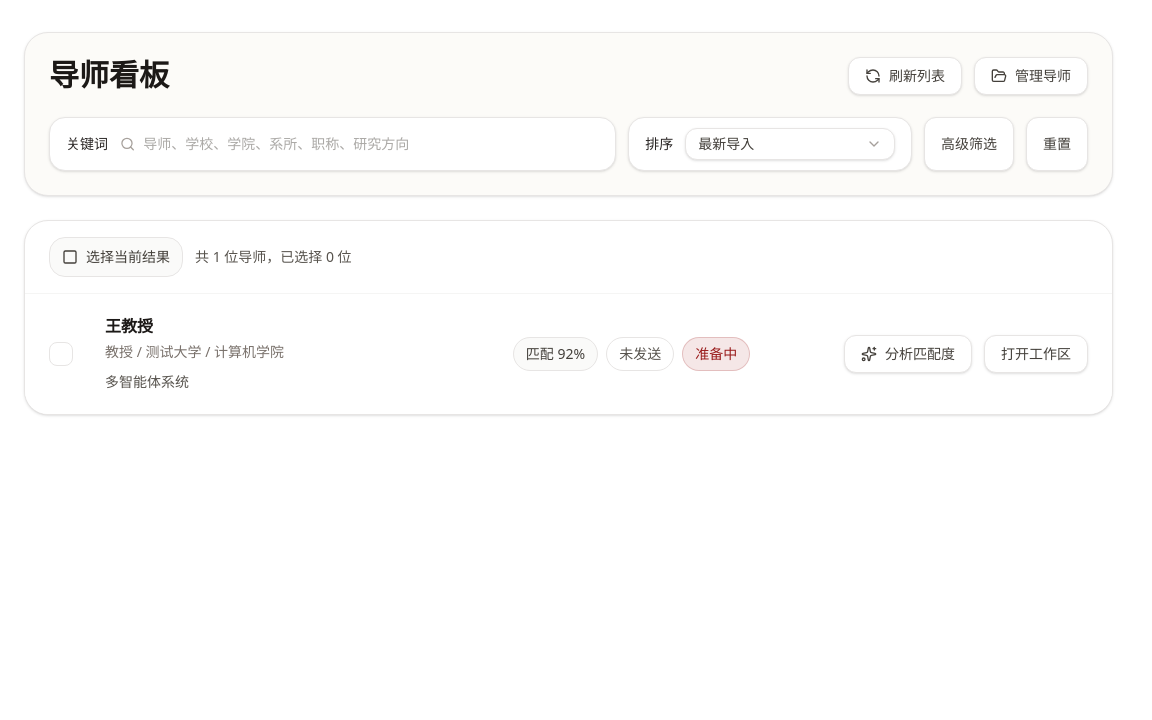
Scenario: HomePage onboarding › shows relationship status labels and filter controls on the dashboard
What coordinates should you click on to do the following:
click the button "高级筛选"
I would click on:
 (969, 144)
Its box is x1=924 y1=117 x2=1014 y2=171.
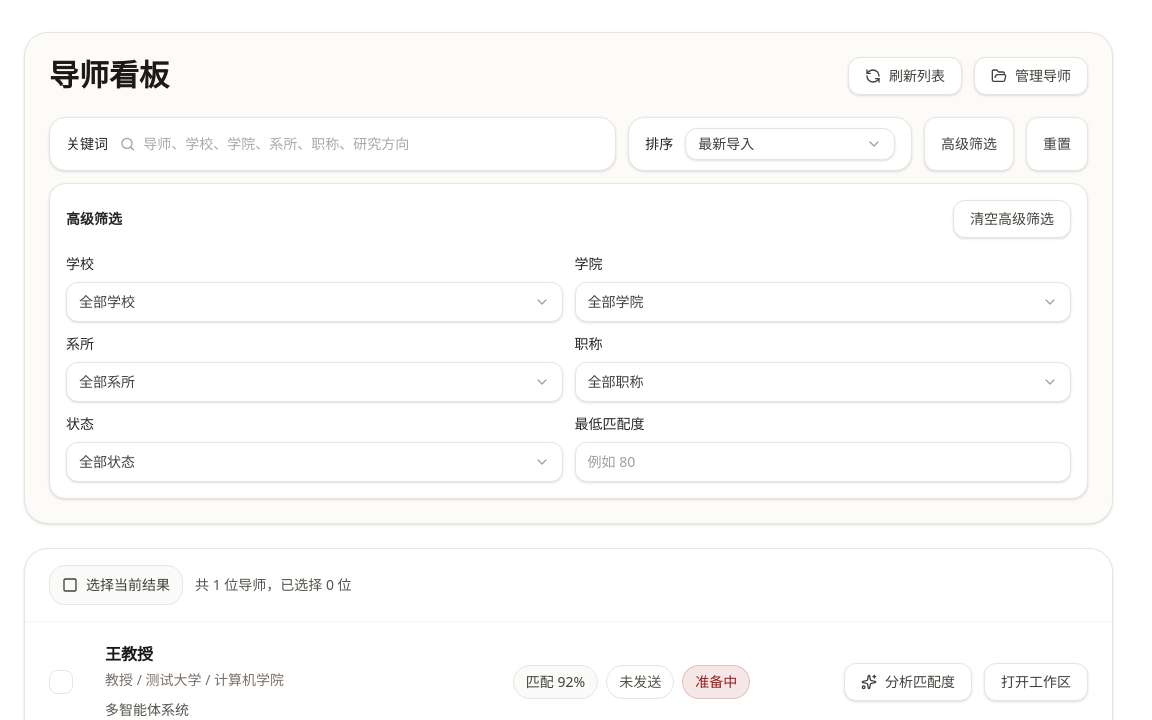
Now the button with aria-label "状态：全部状态" is shown, box x1=66 y1=442 x2=562 y2=482
